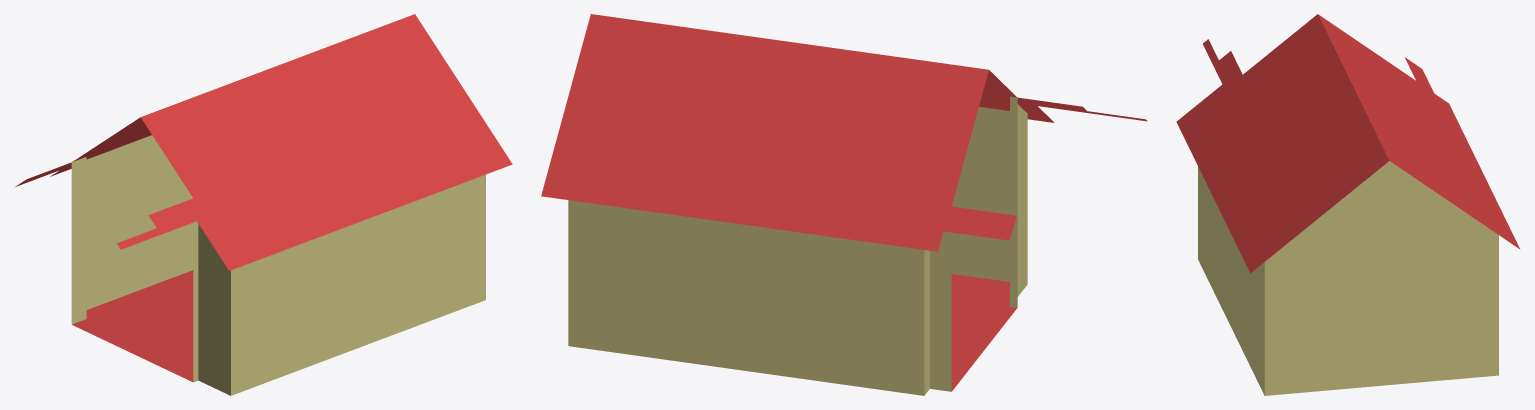
3 views of the same model, side by side, from view 1: azimuth 30°, elevation 25°; view 2: azimuth 150°, elevation 25°; view 3: azimuth 270°, elevation 25° (orthographic). The views are drawn at different scales.
Bounding box in the file's own units: 19.06 × 14.08 × 10.48.
